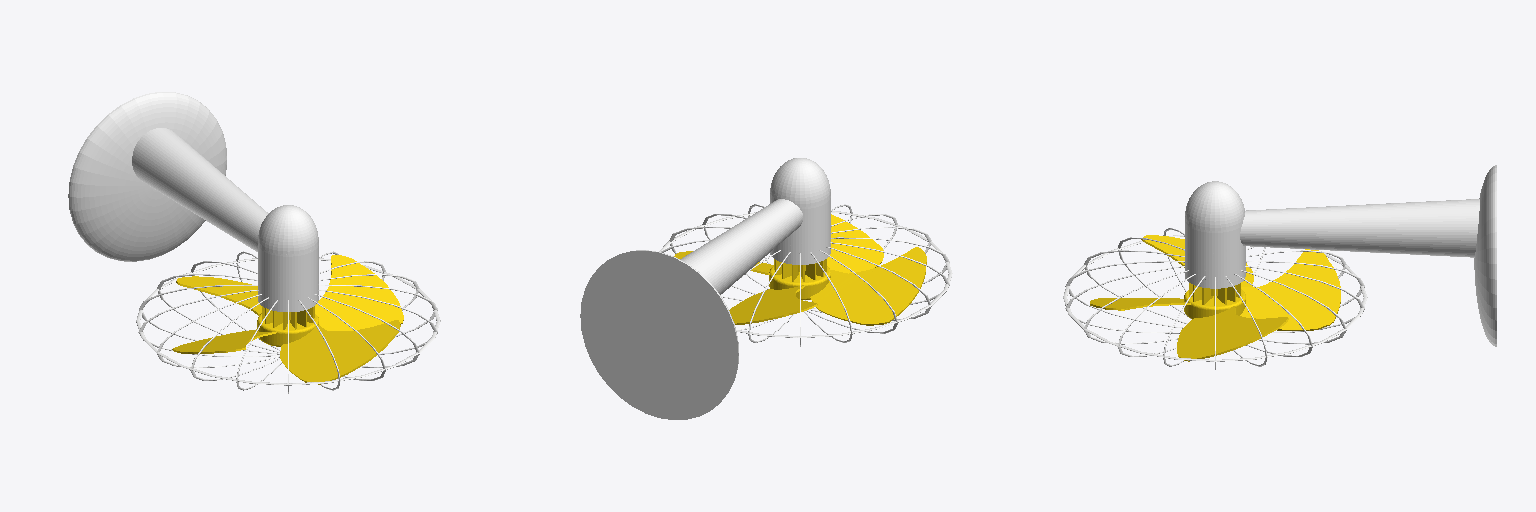
File: fan.obj
The picture shows the model from 3 angles: view 1: azimuth 30°, elevation 25°; view 2: azimuth 150°, elevation 25°; view 3: azimuth 270°, elevation 25°; orthographic projection.
Visible parts, largest first — view 1: fan; view 2: fan; view 3: fan.
Part boxes in pixels (left/top/right/bottom): fan: left=68, top=92, right=440, bottom=393; fan: left=580, top=158, right=952, bottom=419; fan: left=1063, top=165, right=1496, bottom=369.
Bounding box in the file's own units: 40 × 24 × 57.